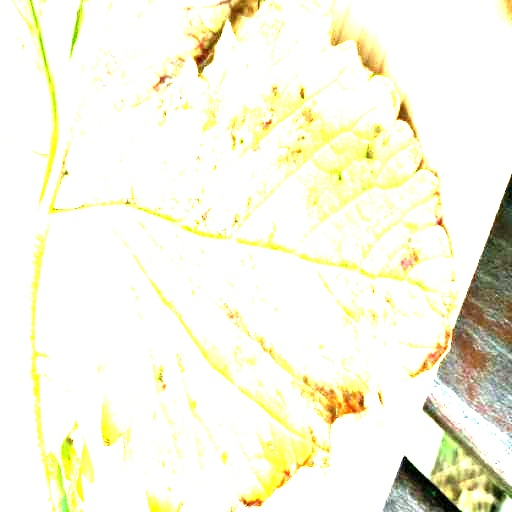Angular Leafspot: (77, 0, 463, 511)
